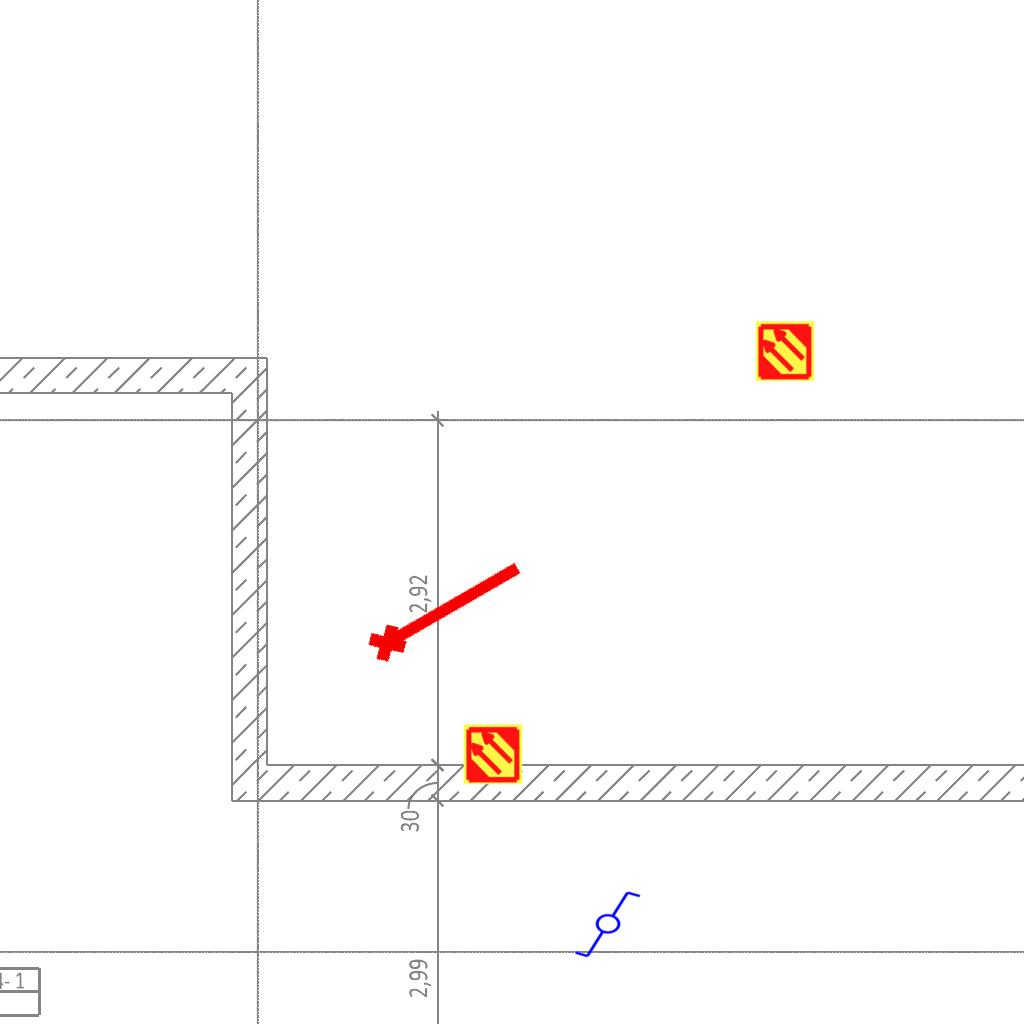ASR_Ansaugoeffnung: (357, 543, 533, 671)
ASR_Ansaugrauchmelder: (754, 320, 816, 382), (462, 723, 524, 785)
Wechselschalter: (573, 889, 651, 961)
